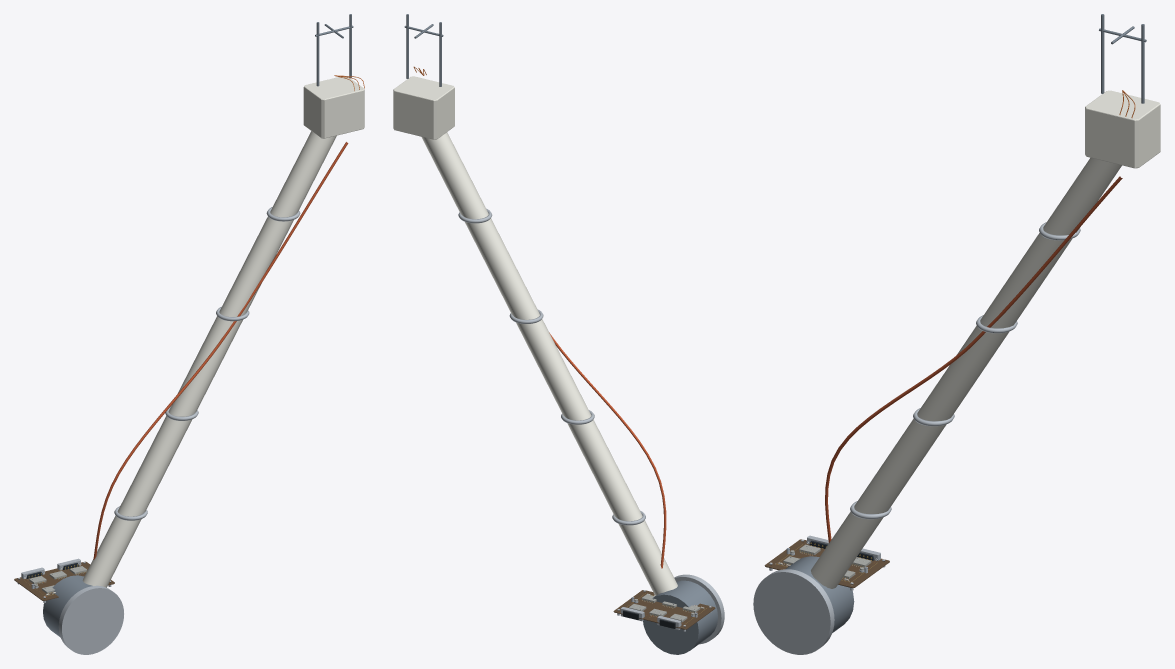
The model's file is viking-meteorology.glb.
The picture shows the model from 3 angles, left to right: view 1: azimuth 30°, elevation 25°; view 2: azimuth 150°, elevation 25°; view 3: azimuth 330°, elevation 25°; orthographic projection. The views are drawn at different scales.
Parts seen in each view (by area): view 1: MET_BOOM_Viking_white_thermal_enamel, MET_HINGE_Machined_aluminium, HOT_FILM_SENSORS_Viking_white_thermal_enamel, MET_LOOM, MET_HINGE_Steel_fixings, MET_ELECTRONICS_Period_circuit_substrate, MET_BOOM_Machined_aluminium, HOT_FILM_SENSORS_Steel_fixings; view 2: MET_BOOM_Viking_white_thermal_enamel, HOT_FILM_SENSORS_Viking_white_thermal_enamel, MET_HINGE_Steel_fixings, MET_ELECTRONICS_Period_circuit_substrate, MET_LOOM, MET_BOOM_Machined_aluminium, MET_HINGE_Machined_aluminium, MET_ELECTRONICS_PACKAGES_Ceramic_electronic_package, HOT_FILM_SENSORS_Steel_fixings; view 3: MET_BOOM_Viking_white_thermal_enamel, MET_HINGE_Machined_aluminium, HOT_FILM_SENSORS_Viking_white_thermal_enamel, MET_LOOM, MET_HINGE_Steel_fixings, MET_ELECTRONICS_Period_circuit_substrate, MET_BOOM_Machined_aluminium, HOT_FILM_SENSORS_Steel_fixings.
Boxes of the visible parts, box(x1,y1,x2,y2) form: MET_BOOM_Viking_white_thermal_enamel: box(82, 131, 336, 587); MET_HINGE_Machined_aluminium: box(58, 585, 123, 654); HOT_FILM_SENSORS_Viking_white_thermal_enamel: box(303, 75, 364, 138); MET_LOOM: box(93, 142, 348, 559); MET_HINGE_Steel_fixings: box(43, 575, 92, 637); MET_ELECTRONICS_Period_circuit_substrate: box(14, 561, 114, 600); MET_BOOM_Machined_aluminium: box(114, 207, 300, 520); HOT_FILM_SENSORS_Steel_fixings: box(315, 14, 353, 86); MET_BOOM_Viking_white_thermal_enamel: box(421, 132, 677, 595); HOT_FILM_SENSORS_Viking_white_thermal_enamel: box(393, 76, 454, 139); MET_HINGE_Steel_fixings: box(643, 580, 717, 654); MET_ELECTRONICS_Period_circuit_substrate: box(613, 590, 715, 629); MET_LOOM: box(549, 332, 666, 568); MET_BOOM_Machined_aluminium: box(458, 208, 645, 525); MET_HINGE_Machined_aluminium: box(674, 574, 724, 644); MET_ELECTRONICS_PACKAGES_Ceramic_electronic_package: box(629, 594, 700, 622); HOT_FILM_SENSORS_Steel_fixings: box(404, 14, 443, 86); MET_BOOM_Viking_white_thermal_enamel: box(811, 157, 1121, 588); MET_HINGE_Machined_aluminium: box(753, 569, 834, 654); HOT_FILM_SENSORS_Viking_white_thermal_enamel: box(1085, 90, 1160, 168); MET_LOOM: box(825, 176, 1122, 542); MET_HINGE_Steel_fixings: box(785, 556, 854, 632); MET_ELECTRONICS_Period_circuit_substrate: box(764, 539, 889, 588); MET_BOOM_Machined_aluminium: box(850, 222, 1080, 519); HOT_FILM_SENSORS_Steel_fixings: box(1099, 14, 1146, 103).
Bounding box in the file's own units: 0.516 × 0.8915 × 0.126.
